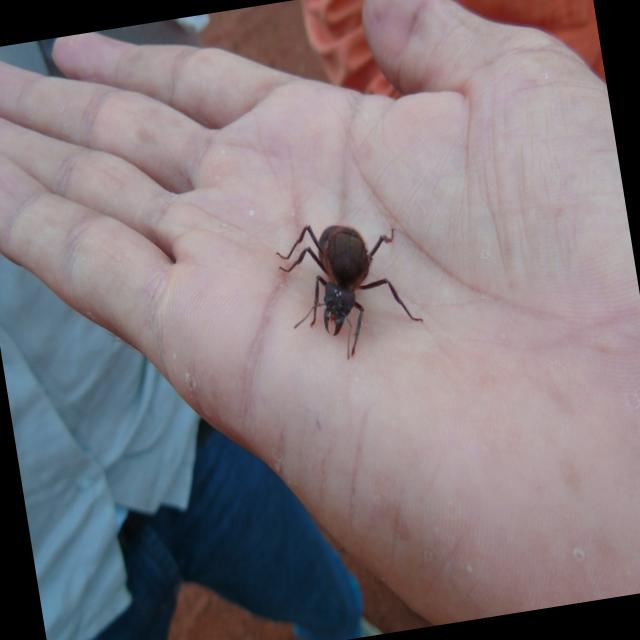Alive-Female-Dealate: (272, 210, 428, 369)
